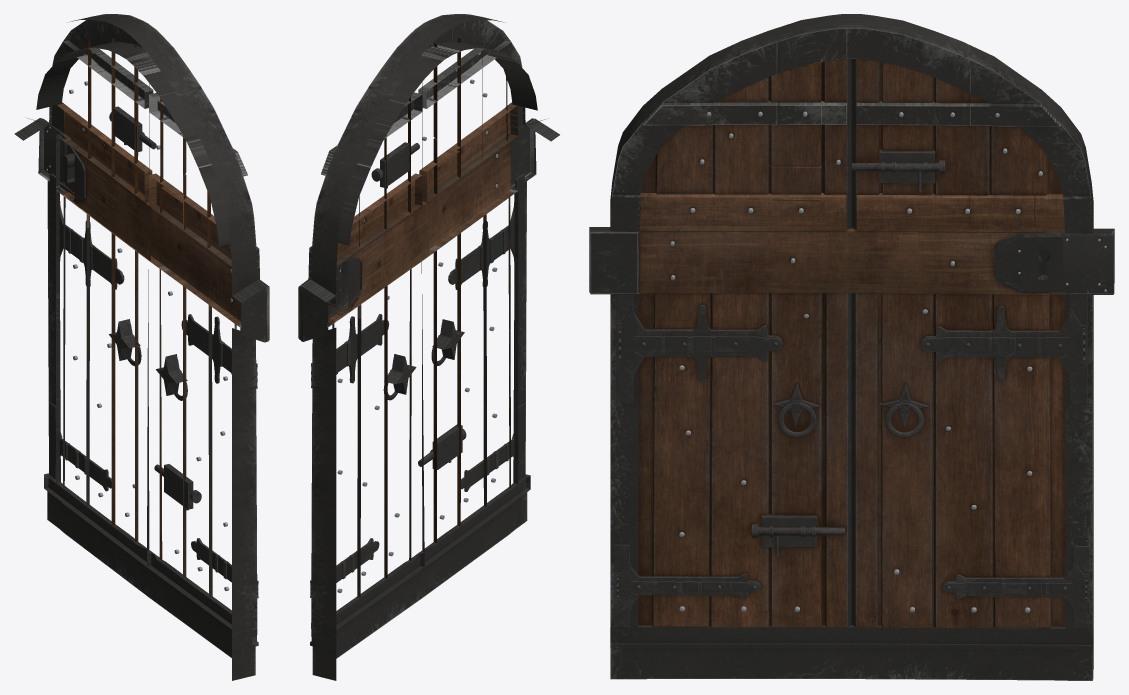
The model's file is door.glb.
The picture shows the model from 3 angles, left to right: view 1: azimuth 30°, elevation 25°; view 2: azimuth 150°, elevation 25°; view 3: azimuth 270°, elevation 25°; orthographic projection. The views are drawn at different scales.
Parts seen in each view (by area): view 1: Door_Metalparts, Door_woodparts, Iron Parts, Bolts; view 2: Door_Metalparts, Door_woodparts, Iron Parts, Bolts; view 3: Door_woodparts, Door_Metalparts, Iron Parts, Bolts.
Boxes of the visible parts, bbox=[...] form: Door_Metalparts: bbox=[36, 20, 269, 657]; Door_woodparts: bbox=[14, 14, 266, 680]; Iron Parts: bbox=[49, 106, 258, 598]; Bolts: bbox=[46, 51, 232, 590]; Door_Metalparts: bbox=[298, 20, 537, 658]; Door_woodparts: bbox=[301, 14, 559, 680]; Iron Parts: bbox=[310, 142, 525, 597]; Bolts: bbox=[337, 52, 498, 593]; Door_woodparts: bbox=[589, 14, 1114, 678]; Door_Metalparts: bbox=[589, 28, 1114, 680]; Iron Parts: bbox=[614, 149, 1089, 629]; Bolts: bbox=[670, 111, 1106, 612].
Size of the model in its own units: 0.1696 by 2.76 by 2.02.
Materials: 4 (4 with a texture image).
